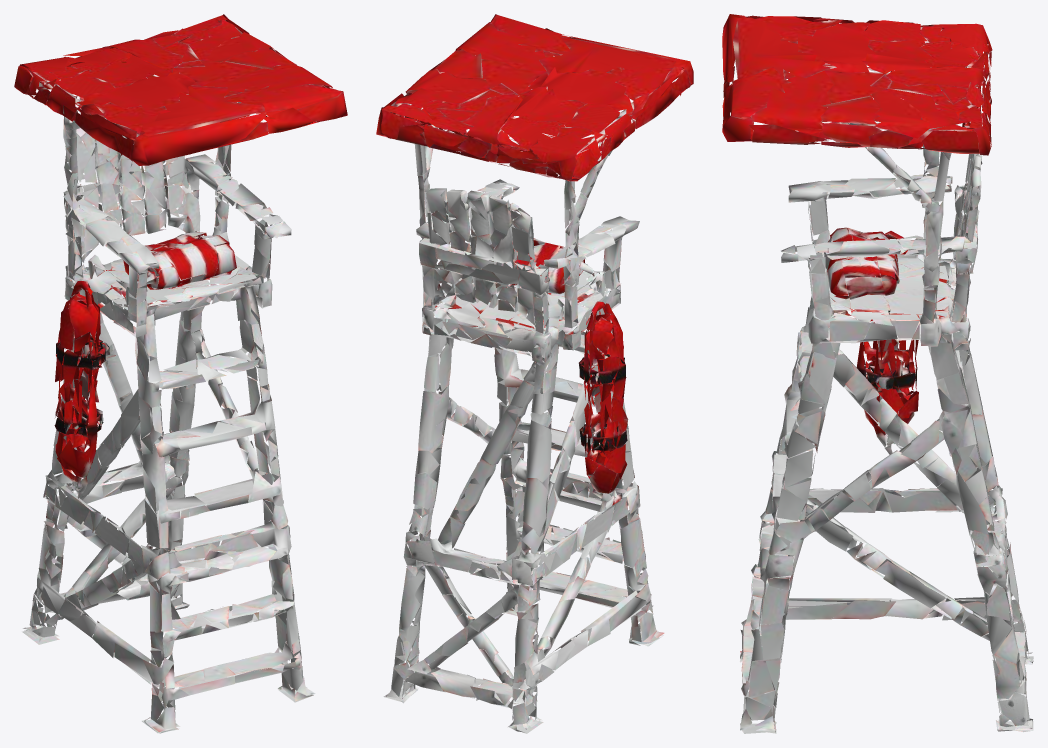
Rendered from lifeguard-chair.glb.
3 views of the same model, side by side, from view 1: azimuth 30°, elevation 25°; view 2: azimuth 150°, elevation 25°; view 3: azimuth 270°, elevation 25° (orthographic). The views are drawn at different scales.
Parts seen in each view (by area): view 1: Mesh_0; view 2: Mesh_0; view 3: Mesh_0.
Boxes of the visible parts, x1,y1,x2,y2 form: Mesh_0: (14, 14, 347, 733); Mesh_0: (376, 14, 693, 733); Mesh_0: (722, 14, 1033, 733).
Bounding box in the file's own units: 0.7189 × 1.91 × 0.8514.
1 material, 1 textured.
